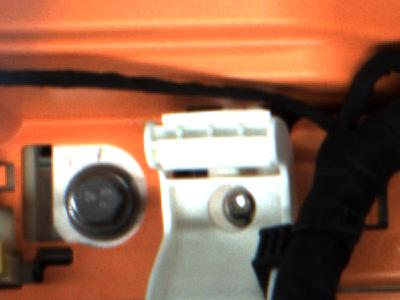nut_b: (65, 165, 144, 242)
